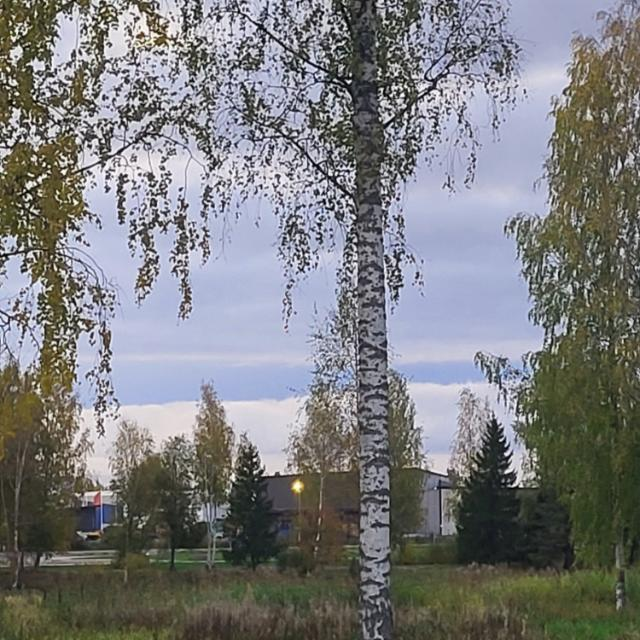birch: (303, 1, 415, 632)
